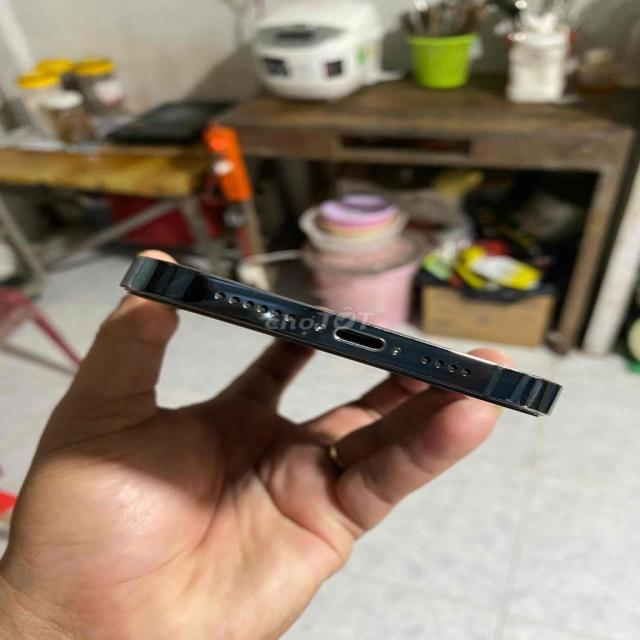gen_12_13: (120, 227, 587, 452)
